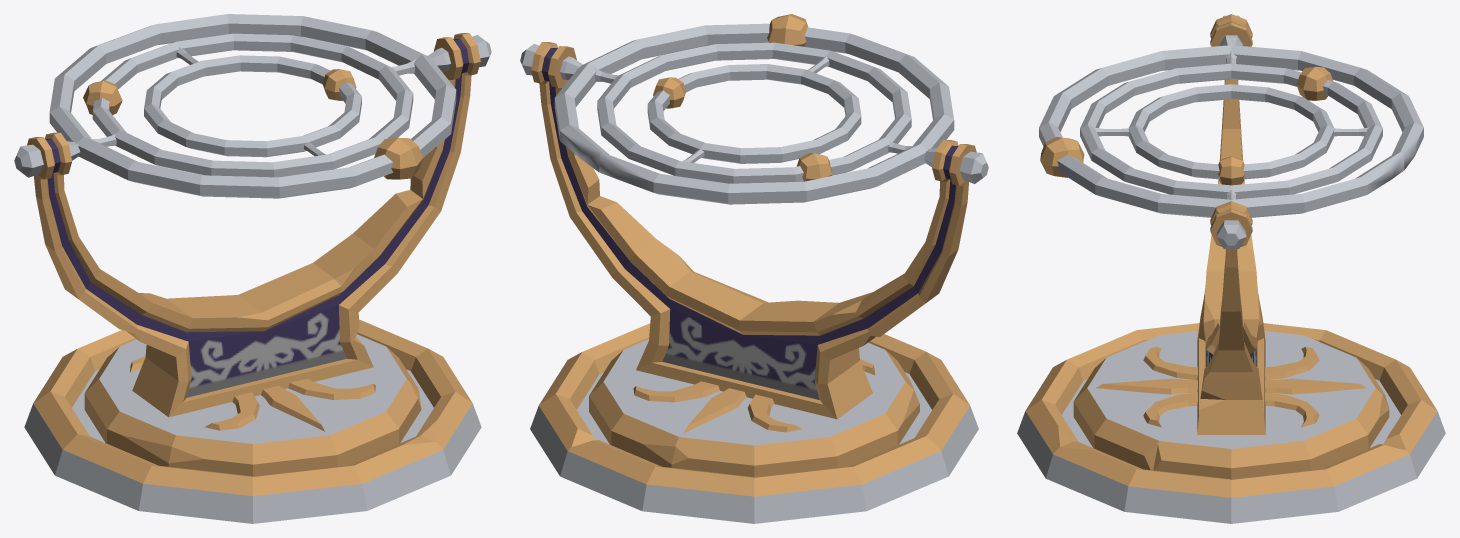
The model's file is Elven_constellation_rings.glb.
3 views of the same model, side by side, from view 1: azimuth 30°, elevation 25°; view 2: azimuth 150°, elevation 25°; view 3: azimuth 270°, elevation 25° (orthographic). The views are drawn at different scales.
Parts seen in each view (by area): view 1: SM_Prop_Constellation_Rings_01, SM_Prop_Constellation_Rings_01_Ring_01, SM_Prop_Constellation_Rings_01_Ring_02, SM_Prop_Constellation_Rings_01_Ring_03; view 2: SM_Prop_Constellation_Rings_01, SM_Prop_Constellation_Rings_01_Ring_01, SM_Prop_Constellation_Rings_01_Ring_02, SM_Prop_Constellation_Rings_01_Ring_03; view 3: SM_Prop_Constellation_Rings_01, SM_Prop_Constellation_Rings_01_Ring_01, SM_Prop_Constellation_Rings_01_Ring_02, SM_Prop_Constellation_Rings_01_Ring_03.
Boxes of the visible parts, x1,y1,x2,y2 form: SM_Prop_Constellation_Rings_01: [24, 33, 481, 523]; SM_Prop_Constellation_Rings_01_Ring_01: [14, 14, 491, 198]; SM_Prop_Constellation_Rings_01_Ring_02: [83, 33, 416, 177]; SM_Prop_Constellation_Rings_01_Ring_03: [144, 47, 361, 157]; SM_Prop_Constellation_Rings_01: [530, 42, 978, 523]; SM_Prop_Constellation_Rings_01_Ring_01: [520, 14, 988, 204]; SM_Prop_Constellation_Rings_01_Ring_02: [594, 42, 914, 183]; SM_Prop_Constellation_Rings_01_Ring_03: [647, 56, 861, 163]; SM_Prop_Constellation_Rings_01: [1017, 14, 1445, 523]; SM_Prop_Constellation_Rings_01_Ring_01: [1039, 15, 1423, 248]; SM_Prop_Constellation_Rings_01_Ring_02: [1080, 50, 1382, 199]; SM_Prop_Constellation_Rings_01_Ring_03: [1093, 84, 1369, 185].
Size of the model in its own units: 1.85 by 1.29 by 1.56.
1 material, 1 textured.
